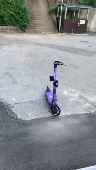beam: (43, 60, 67, 117)
